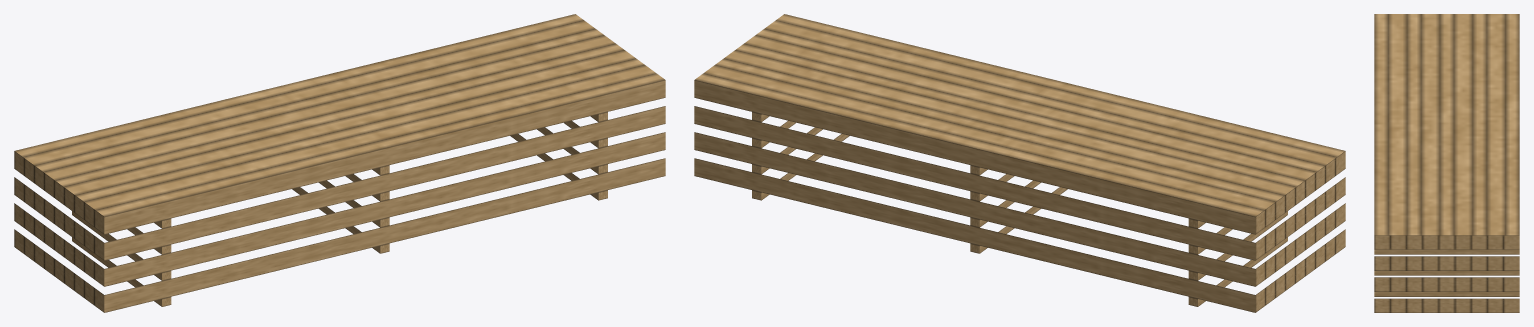
The model's file is prkna.glb.
3 renders of one model, left to right at view 1: azimuth 30°, elevation 25°; view 2: azimuth 150°, elevation 25°; view 3: azimuth 270°, elevation 25°, orthographic. The views are drawn at different scales.
Parts seen in each view (by area): view 1: prkna; view 2: prkna; view 3: prkna.
Part boxes in pixels (x1,y1,x2,y2): prkna: [14, 14, 665, 312]; prkna: [694, 14, 1345, 312]; prkna: [1374, 14, 1519, 312].
Bounding box in the file's own units: 3.6 × 0.6401 × 1.
1 material, 1 textured.
